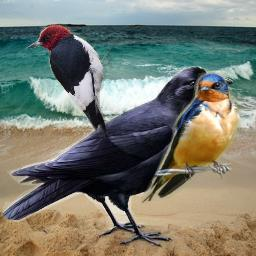Crow: (1, 66, 233, 250)
Swallow: (141, 72, 242, 204)
Woodpecker: (22, 23, 114, 138)
